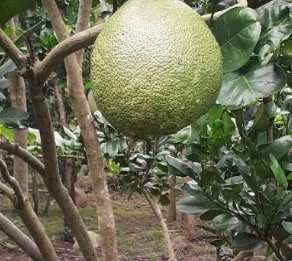Buoi: (87, 1, 221, 144)
